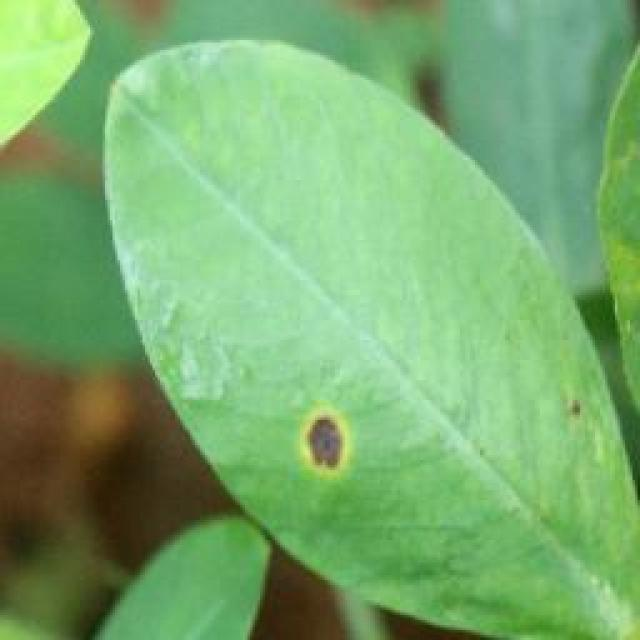Sigatoka: (286, 399, 385, 497), (544, 371, 608, 456)
